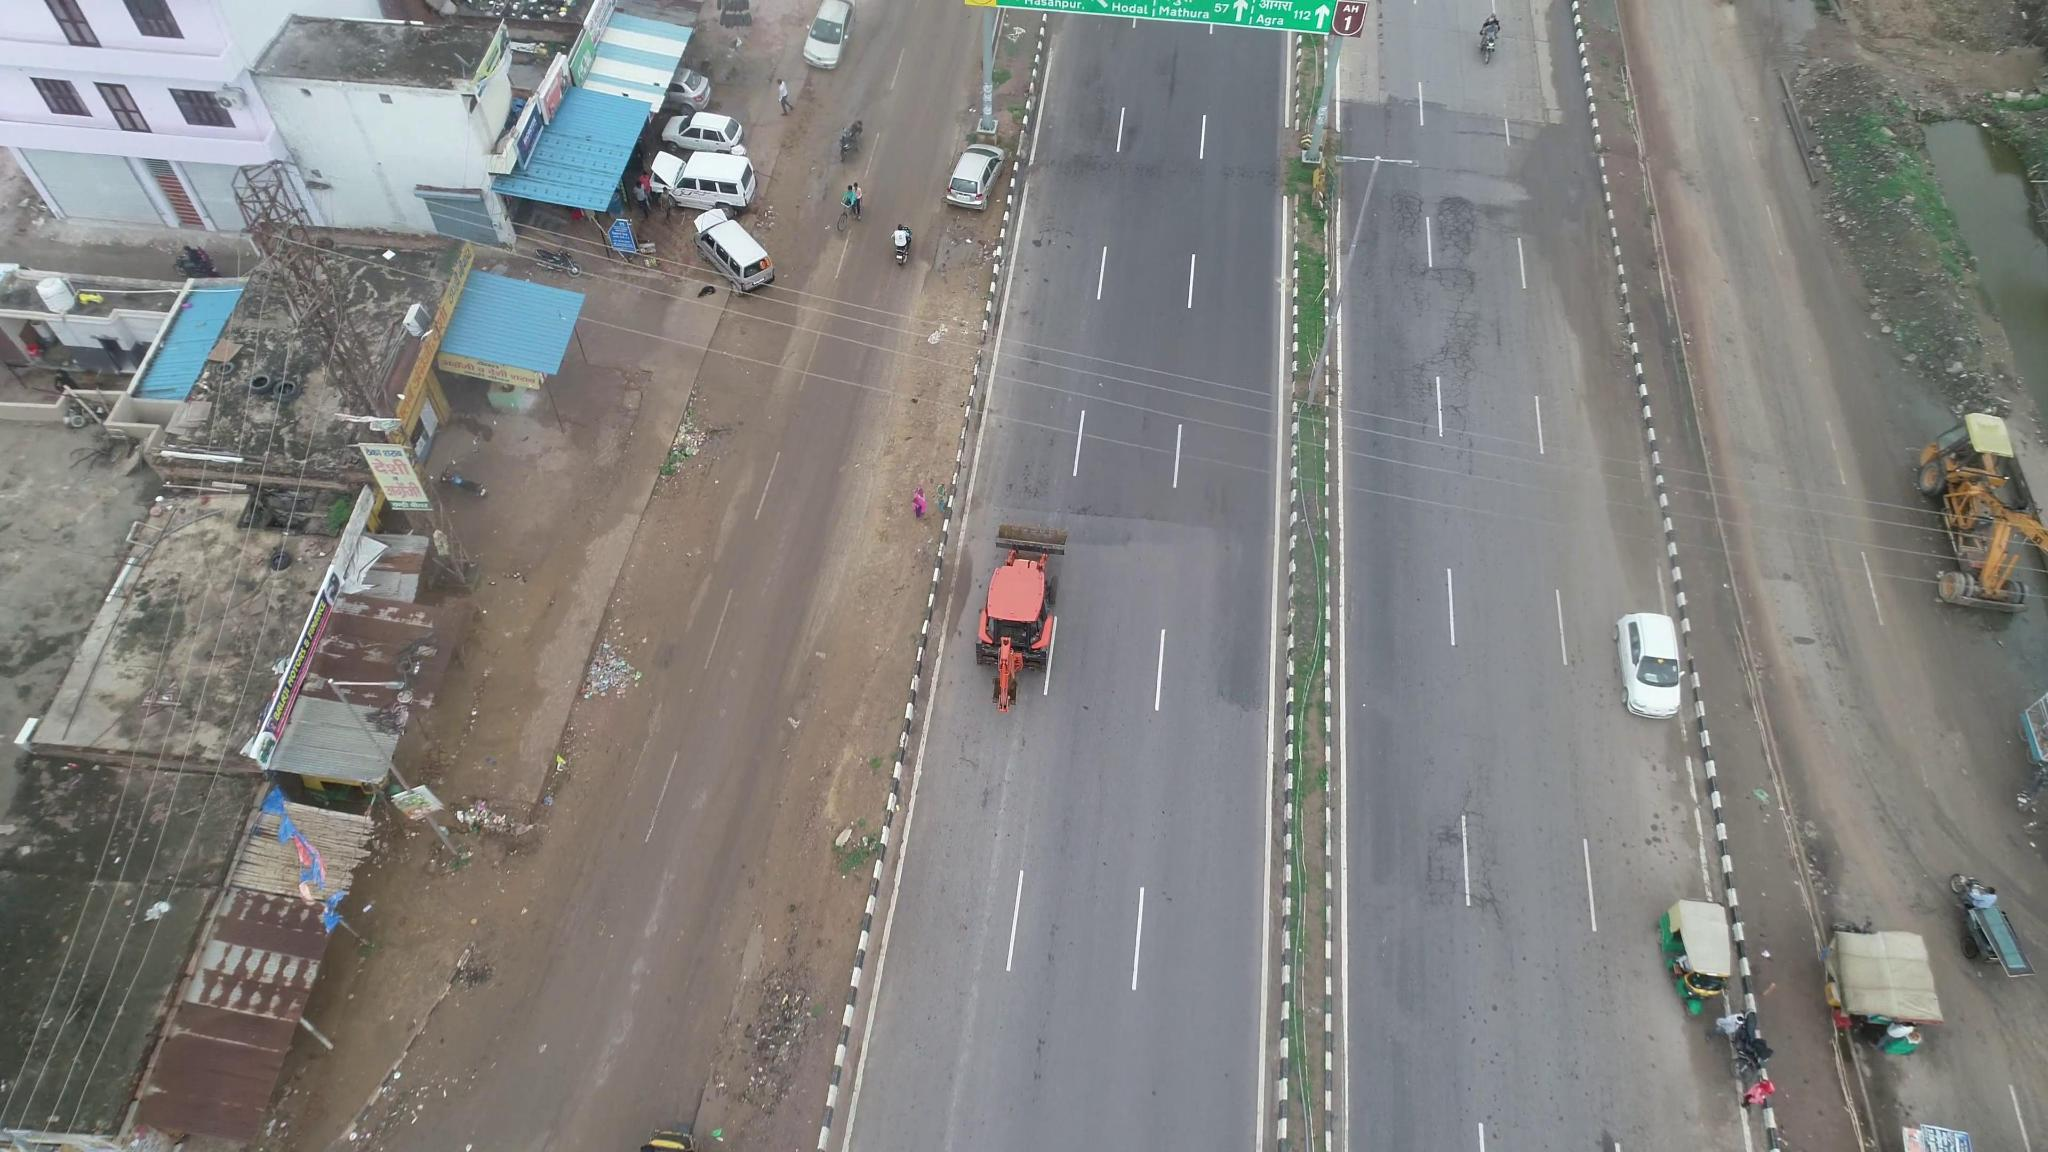Cracks: (1390, 188, 1488, 444), (1423, 800, 1508, 916)
